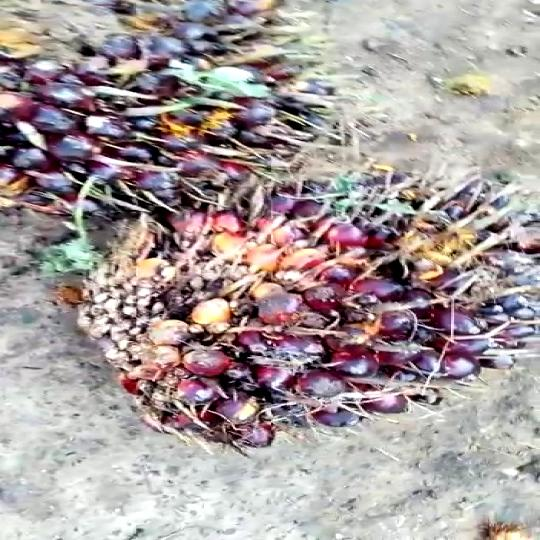kurang masak: (90, 172, 540, 440), (0, 1, 348, 207)
